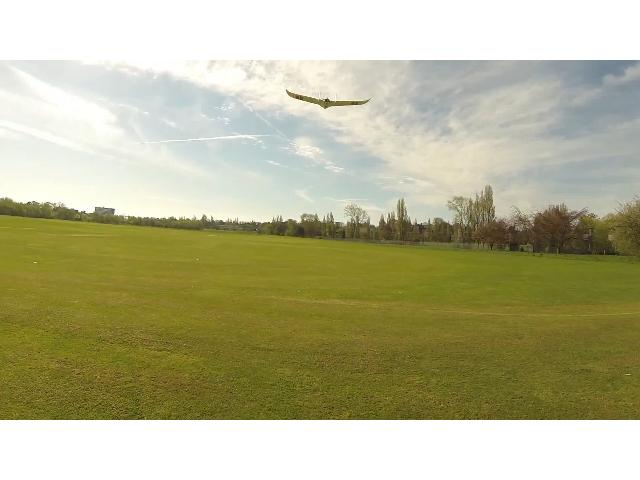Anti-Drone: (280, 83, 378, 121)
